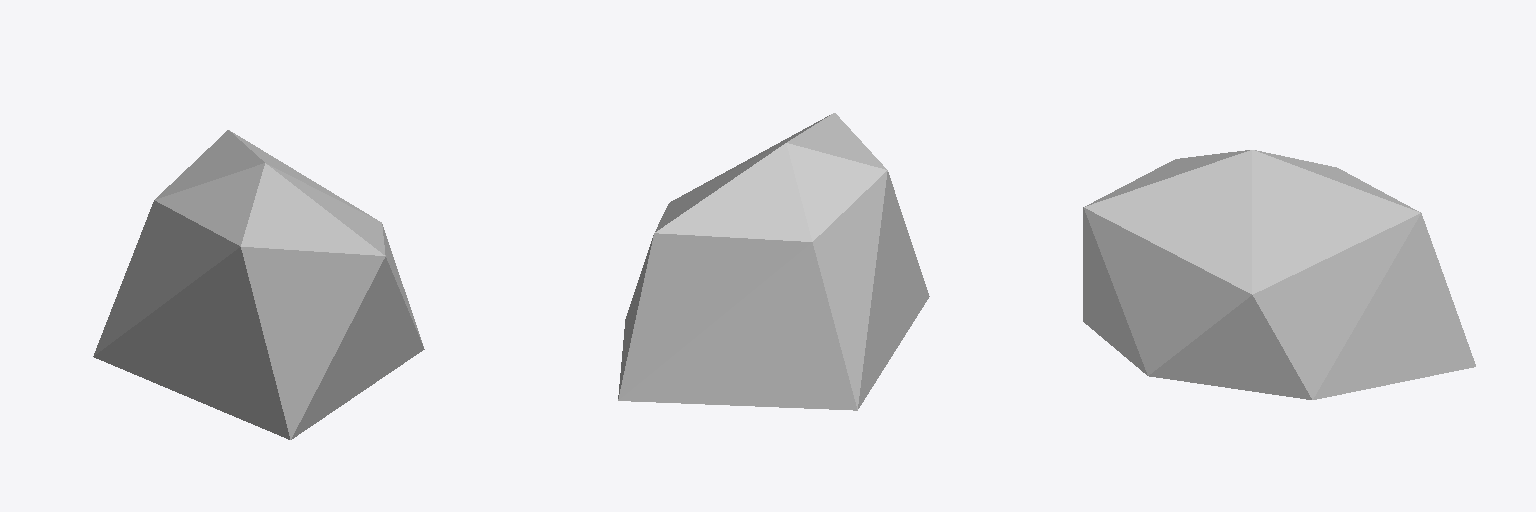
The model's file is Rock 1.obj.
The picture shows the model from 3 angles: view 1: azimuth 30°, elevation 25°; view 2: azimuth 150°, elevation 25°; view 3: azimuth 270°, elevation 25°; orthographic projection.
Parts seen in each view (by area): view 1: Icosphere; view 2: Icosphere; view 3: Icosphere.
Boxes of the visible parts, x1=… form: Icosphere: x1=93, y1=130, x2=424, y2=439; Icosphere: x1=618, y1=113, x2=929, y2=410; Icosphere: x1=1083, y1=150, x2=1475, y2=399.
Size of the model in its own units: 1.47 by 1.16 by 1.98.